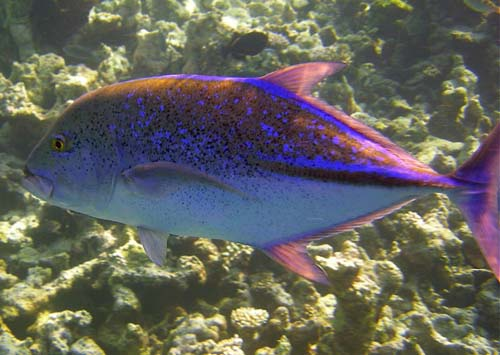fish: (20, 62, 499, 285)
